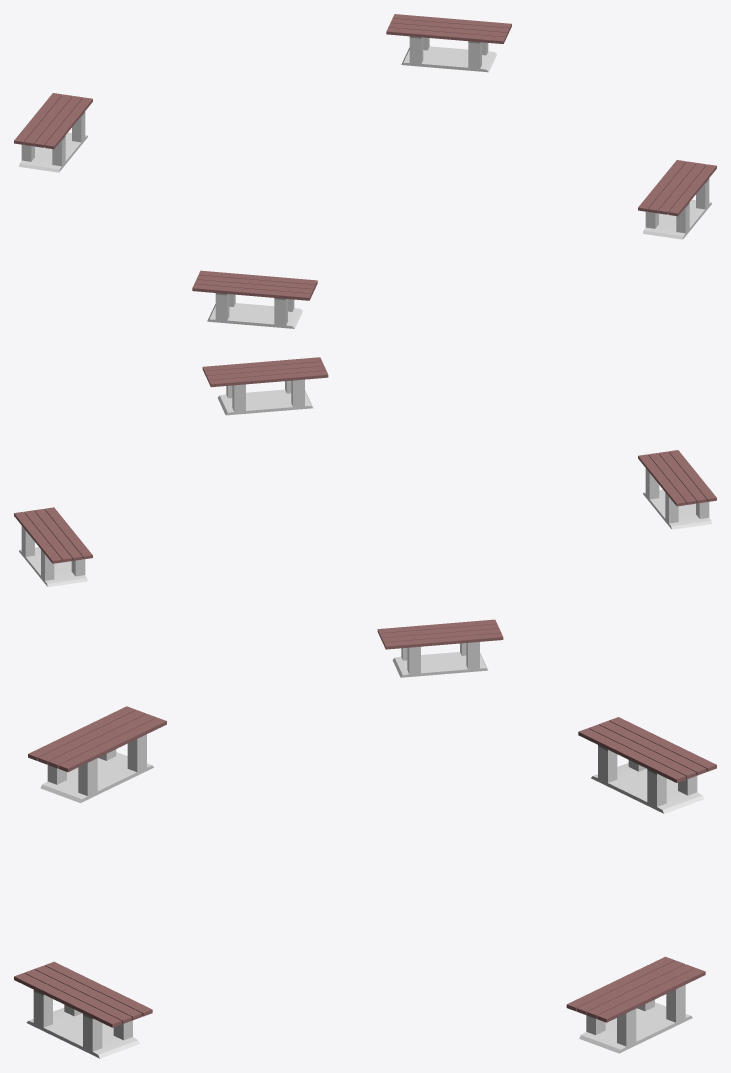
Rendered from bench5.fbx.
The picture shows the model from 3 angles, top to bottom: view 1: azimuth 30°, elevation 25°; view 2: azimuth 150°, elevation 25°; view 3: azimuth 270°, elevation 25°; orthographic projection. The views are drawn at different scales.
Parts seen in each view (by area): view 1: bench5; view 2: bench5; view 3: bench5.
Boxes of the visible parts, x1,y1,x2,y2 form: bench5: [14, 14, 716, 328]; bench5: [14, 357, 716, 677]; bench5: [14, 706, 716, 1058].
Bounding box in the file's own units: 887 × 52.59 × 829.
